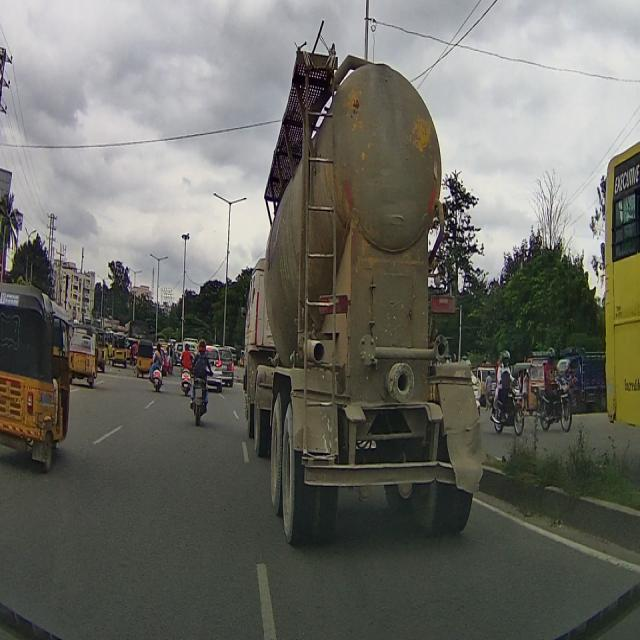auto ahead at: (0, 275, 78, 475)
motorcycle ahead at: (186, 369, 213, 424), (149, 332, 166, 397)
truck ahead at: (244, 28, 489, 557)
